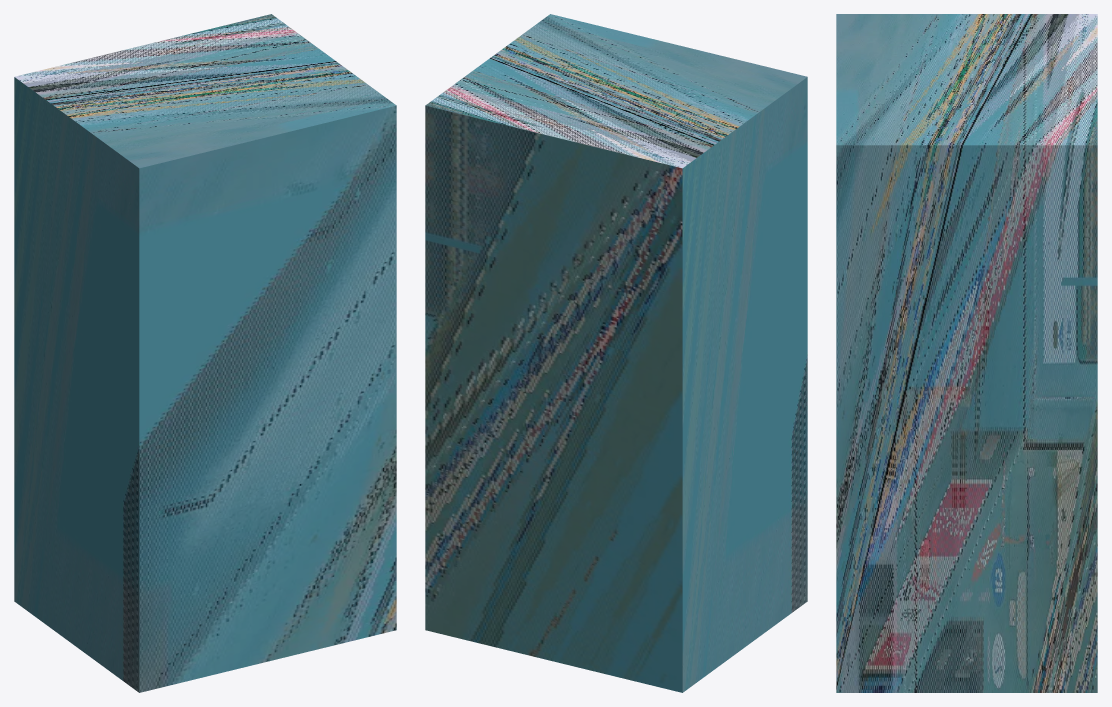
File: vending-samsung.glb
3 views of the same model, side by side, from view 1: azimuth 30°, elevation 25°; view 2: azimuth 150°, elevation 25°; view 3: azimuth 270°, elevation 25° (orthographic). The views are drawn at different scales.
Parts seen in each view (by area): view 1: vending-samsung_000; view 2: vending-samsung_000; view 3: vending-samsung_000.
Boxes of the visible parts, x1=… form: vending-samsung_000: x1=14, y1=14, x2=396, y2=692; vending-samsung_000: x1=425, y1=14, x2=807, y2=692; vending-samsung_000: x1=836, y1=14, x2=1097, y2=692.
Size of the model in its own units: 0.8787 by 1.71 by 0.74.
1 material, 1 textured.
